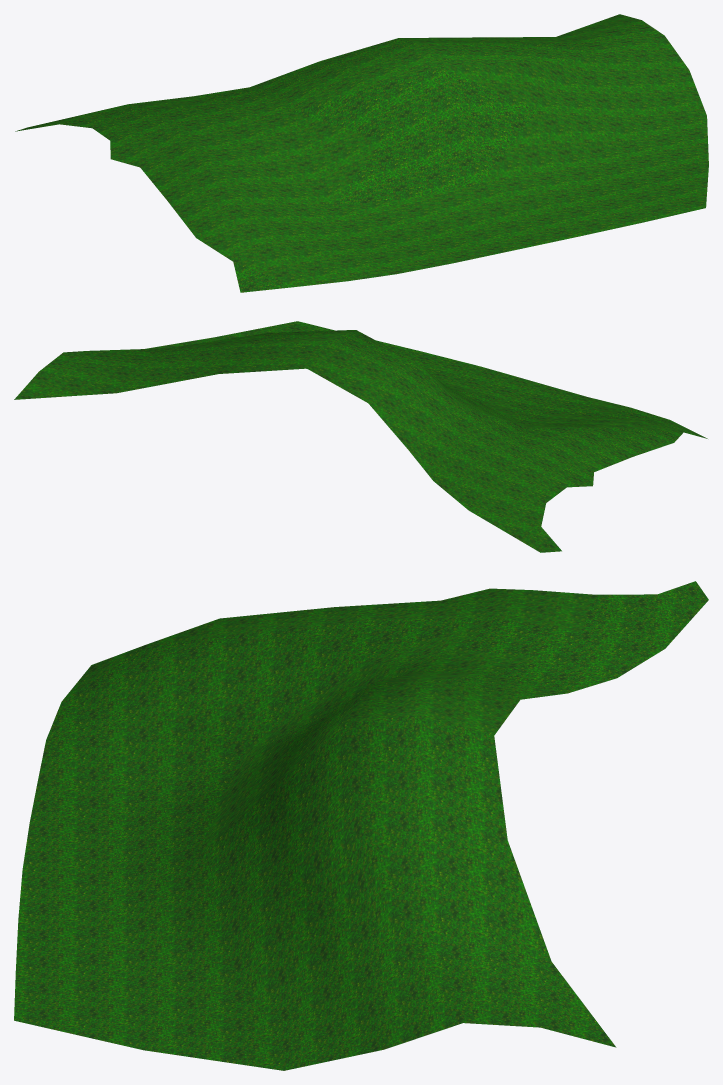
The model's file is HTOWN01_PS05.fbx.
3 views of the same model, one above another, from view 1: azimuth 30°, elevation 25°; view 2: azimuth 150°, elevation 25°; view 3: azimuth 270°, elevation 25° (orthographic). The views are drawn at different scales.
Visible parts, largest first — view 1: HTOWN01_PS05; view 2: HTOWN01_PS05; view 3: HTOWN01_PS05.
Part boxes in pixels (x1=…): HTOWN01_PS05: x1=15, y1=14, x2=708, y2=292; HTOWN01_PS05: x1=14, y1=321, x2=707, y2=552; HTOWN01_PS05: x1=14, y1=581, x2=708, y2=1070.
Bounding box in the file's own units: 449031 × 82162 × 288761.
1 material, 1 textured.
